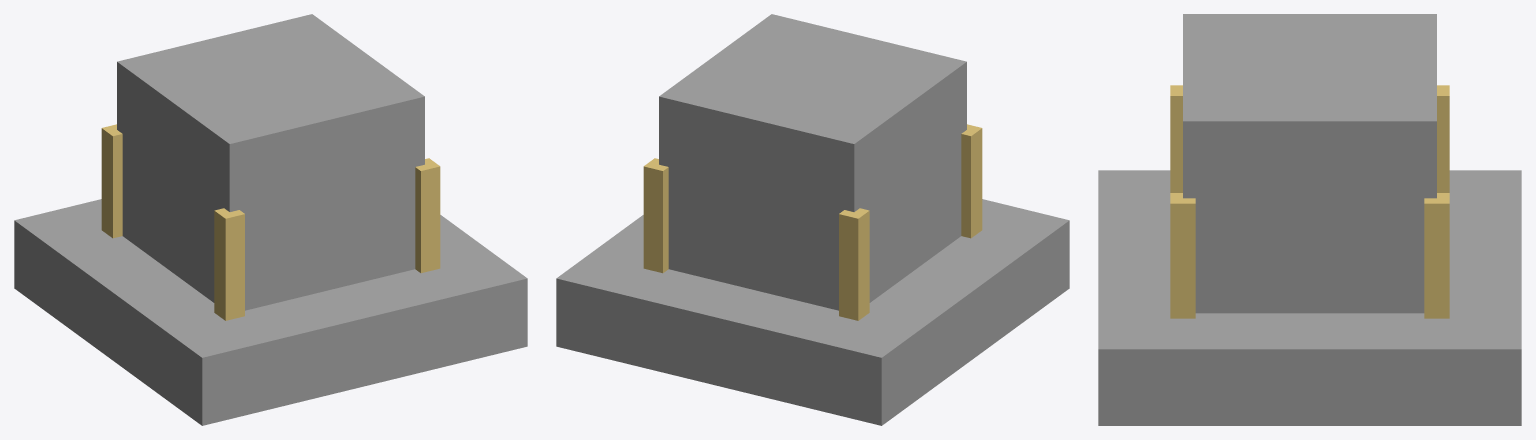
The model's file is shrine.glb.
The picture shows the model from 3 angles, left to right: view 1: azimuth 30°, elevation 25°; view 2: azimuth 150°, elevation 25°; view 3: azimuth 270°, elevation 25°; orthographic projection. The views are drawn at different scales.
Parts seen in each view (by area): view 1: Shrine_Pillar_1_1; view 2: Shrine_Pillar_1_1; view 3: Shrine_Pillar_1_1.
Boxes of the visible parts, <box> form: Shrine_Pillar_1_1: <box>14,14,527,425</box>; Shrine_Pillar_1_1: <box>556,14,1069,425</box>; Shrine_Pillar_1_1: <box>1098,14,1521,425</box>.
Size of the model in its own units: 5 by 3.5 by 5.
